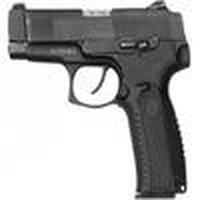gun: (7, 7, 197, 199)
